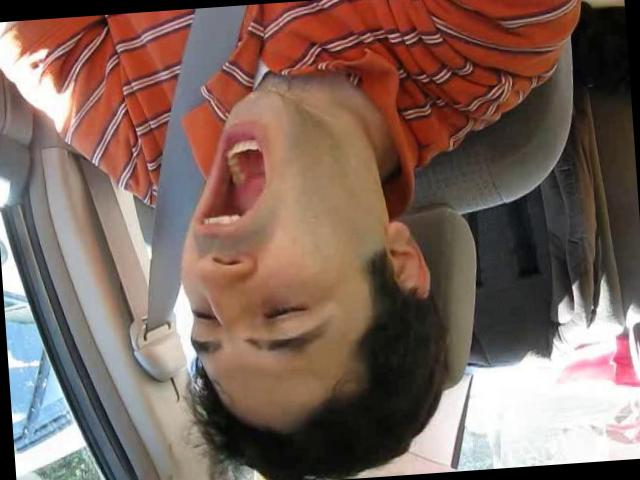eye_closed: (259, 293, 313, 330), (184, 299, 219, 332)
face: (158, 82, 368, 378)
mouth_open: (186, 120, 276, 242)
